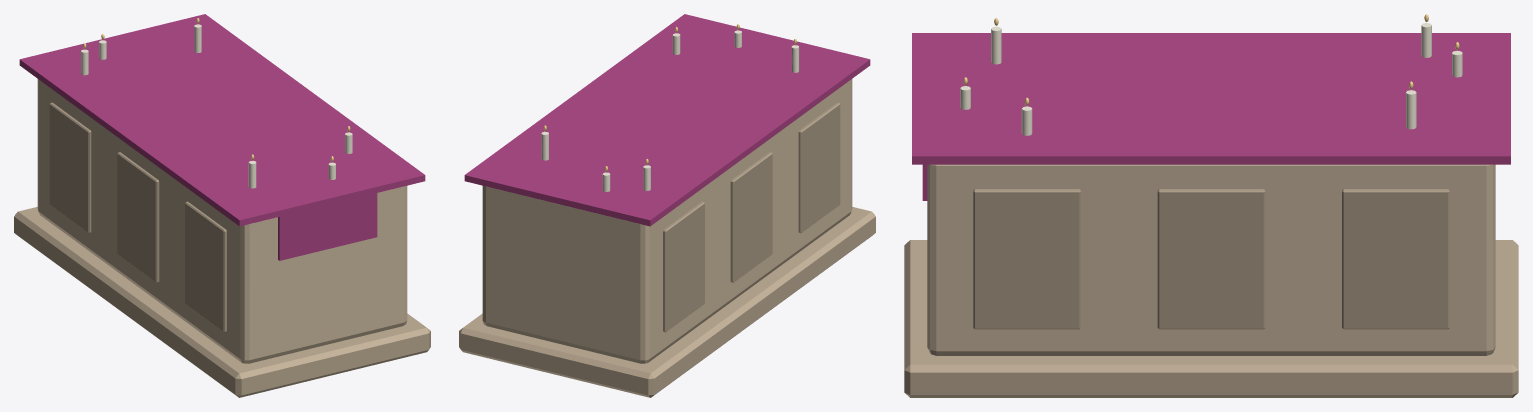
Rendered from altar.glb.
3 renders of one model, left to right at view 1: azimuth 30°, elevation 25°; view 2: azimuth 150°, elevation 25°; view 3: azimuth 270°, elevation 25°, orthographic. The views are drawn at different scales.
Parts seen in each view (by area): view 1: banner, sand, sand*0.85, sand*0.7, sand*0.002, banner.001, sand*0.004; view 2: banner, sand, sand*0.85, sand*0.004, sand*0.002, sand*0.7; view 3: banner, sand, sand*0.85, sand*0.003, sand*0.001, sand*0.005.
Part boxes in pixels (x1=…): banner: x1=19, y1=14, x2=425, y2=226; sand: x1=37, y1=79, x2=407, y2=363; sand*0.85: x1=14, y1=207, x2=430, y2=397; sand*0.7: x1=49, y1=102, x2=91, y2=233; sand*0.002: x1=117, y1=152, x2=159, y2=282; banner.001: x1=278, y1=193, x2=377, y2=260; sand*0.004: x1=185, y1=201, x2=226, y2=332; banner: x1=464, y1=14, x2=870, y2=226; sand: x1=482, y1=79, x2=852, y2=363; sand*0.85: x1=459, y1=207, x2=875, y2=397; sand*0.004: x1=798, y1=102, x2=840, y2=233; sand*0.002: x1=730, y1=152, x2=772, y2=282; sand*0.7: x1=663, y1=201, x2=704, y2=332; banner: x1=912, y1=33, x2=1510, y2=164; sand: x1=927, y1=164, x2=1495, y2=355; sand*0.85: x1=904, y1=240, x2=1518, y2=397; sand*0.003: x1=1157, y1=189, x2=1265, y2=329; sand*0.001: x1=1342, y1=189, x2=1449, y2=329; sand*0.005: x1=973, y1=189, x2=1080, y2=329.
Bounding box in the file's own units: 2 × 2.06 × 4.
